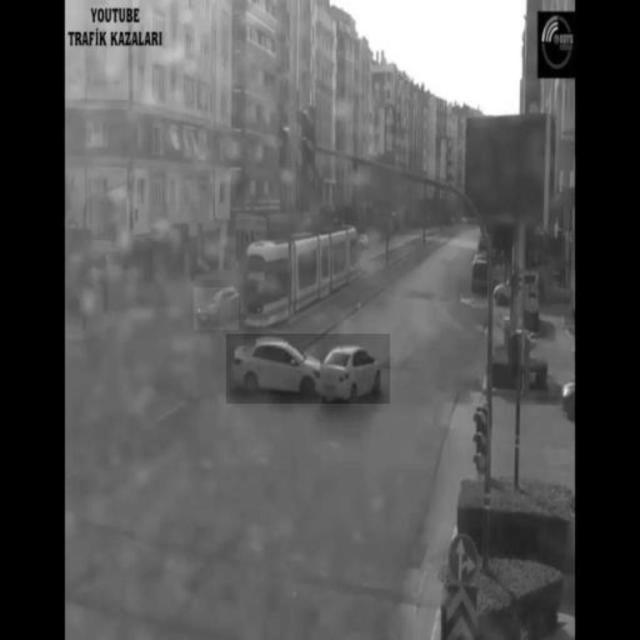accident: (226, 334, 390, 404)
vehicle: (195, 288, 240, 330)
